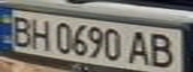0: (103, 26, 127, 62), (51, 20, 72, 55)
6: (69, 21, 90, 57)
9: (84, 24, 106, 60)
A: (124, 28, 154, 65)
B: (145, 29, 181, 69), (6, 12, 36, 47)
H: (27, 16, 54, 52)
